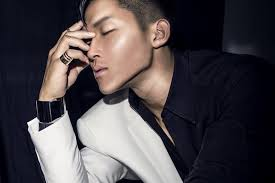asian_male: (76, 1, 163, 105)
